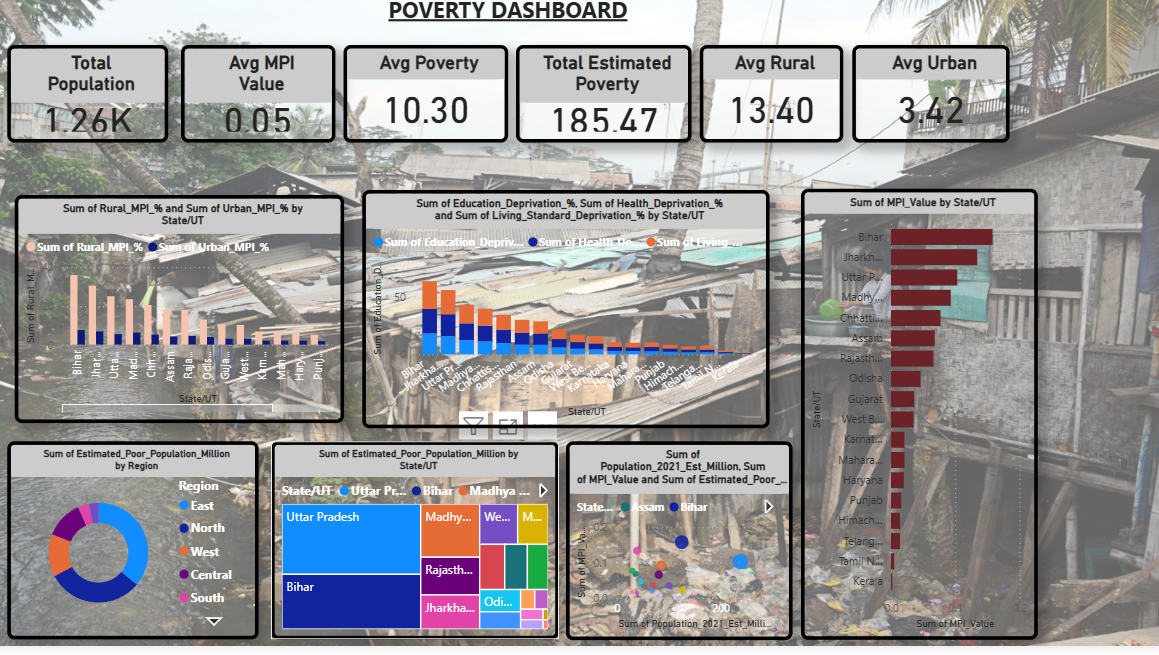

What the dashboard file says about the page in this screenshot:
{"tool":"powerbi","page":{"name":"Page 1","canvas":[1280,720],"ordinal":0},"visuals":[{"type":"textbox","box":[276.8,0,569.5,61],"z":0},{"type":"card","title":"Total Population","fields":{"Values":["Sum(India_MPI_Research_Dataset.Population_2021_Est_Million)"]},"box":[12.2,61,176.8,107.3],"z":1000},{"type":"card","title":"Avg MPI Value","fields":{"Values":["Avg(India_MPI_Research_Dataset.MPI_Value)"]},"box":[203.7,61,169.5,107.3],"z":2000},{"type":"card","title":"Avg Poverty","fields":{"Values":["Avg(India_MPI_Research_Dataset.Estimated_Poor_Population_Million)"]},"box":[381.7,61,180.5,107.3],"z":3000},{"type":"card","title":"Total Estimated Poverty","fields":{"Values":["Sum(India_MPI_Research_Dataset.Estimated_Poor_Population_Million)"]},"box":[570.7,61,192.7,107.3],"z":4000},{"type":"card","title":"Avg Rural ","fields":{"Values":["Avg(India_MPI_Research_Dataset.Rural_MPI_%)"]},"box":[772,61,157.3,107.3],"z":5000},{"type":"card","title":"Avg Urban","fields":{"Values":["Avg(India_MPI_Research_Dataset.Urban_MPI_%)"]},"box":[940.2,61,173.2,107.3],"z":6000},{"type":"donutChart","fields":{"Y":["Sum(India_MPI_Research_Dataset.Estimated_Poor_Population_Million)"],"Category":["India_MPI_Research_Dataset.Region"]},"box":[12.5,495,276.2,217.5],"z":7000},{"type":"treemap","fields":{"Group":["India_MPI_Research_Dataset.State/UT"],"Values":["Sum(India_MPI_Research_Dataset.Estimated_Poor_Population_Million)"]},"box":[301.2,495,316.2,217.5],"z":8000},{"type":"clusteredColumnChart","fields":{"Y":["Sum(India_MPI_Research_Dataset.Rural_MPI_%)","Sum(India_MPI_Research_Dataset.Urban_MPI_%)"],"Category":["India_MPI_Research_Dataset.State/UT"]},"box":[20,225,361.2,250],"z":9000},{"type":"columnChart","fields":{"Category":["India_MPI_Research_Dataset.State/UT"],"Y":["Sum(India_MPI_Research_Dataset.Education_Deprivation_%)","Sum(India_MPI_Research_Dataset.Health_Deprivation_%)","Sum(India_MPI_Research_Dataset.Living_Standard_Deprivation_%)"]},"box":[402.5,220,447.5,261.2],"z":10000},{"type":"scatterChart","fields":{"X":["Sum(India_MPI_Research_Dataset.Population_2021_Est_Million)"],"Y":["Sum(India_MPI_Research_Dataset.MPI_Value)"],"Size":["Sum(India_MPI_Research_Dataset.Estimated_Poor_Population_Million)"],"Series":["India_MPI_Research_Dataset.State/UT"]},"box":[626.2,495,248.8,218.8],"z":10001},{"type":"clusteredBarChart","fields":{"Category":["India_MPI_Research_Dataset.State/UT"],"Y":["Sum(India_MPI_Research_Dataset.MPI_Value)"]},"box":[883.8,217.5,260,495],"z":10003}]}

Visuals, with their boxes in screenshot pixels (x1, y1, x2, y2), scaled from the page's 1280x720 canvas onto the 1159x655 screenshot:
textbox: 251/0/766/55
"Total Population" card: 11/55/171/153
"Avg MPI Value" card: 184/55/338/153
"Avg Poverty" card: 346/55/509/153
"Total Estimated Poverty" card: 517/55/691/153
"Avg Rural " card: 699/55/841/153
"Avg Urban" card: 851/55/1008/153
donutChart - Sum(India_MPI_Research_Dataset.Estimated_Poor_Population_Million) x India_MPI_Research_Dataset.Region: 11/450/261/648
treemap - India_MPI_Research_Dataset.State/UT x Sum(India_MPI_Research_Dataset.Estimated_Poor_Population_Million): 273/450/559/648
clusteredColumnChart - Sum(India_MPI_Research_Dataset.Rural_MPI_%) x Sum(India_MPI_Research_Dataset.Urban_MPI_%): 18/205/345/432
columnChart - India_MPI_Research_Dataset.State/UT x Sum(India_MPI_Research_Dataset.Education_Deprivation_%): 364/200/770/438
scatterChart - Sum(India_MPI_Research_Dataset.Population_2021_Est_Million) x Sum(India_MPI_Research_Dataset.MPI_Value): 567/450/792/649
clusteredBarChart - India_MPI_Research_Dataset.State/UT x Sum(India_MPI_Research_Dataset.MPI_Value): 800/198/1036/648
